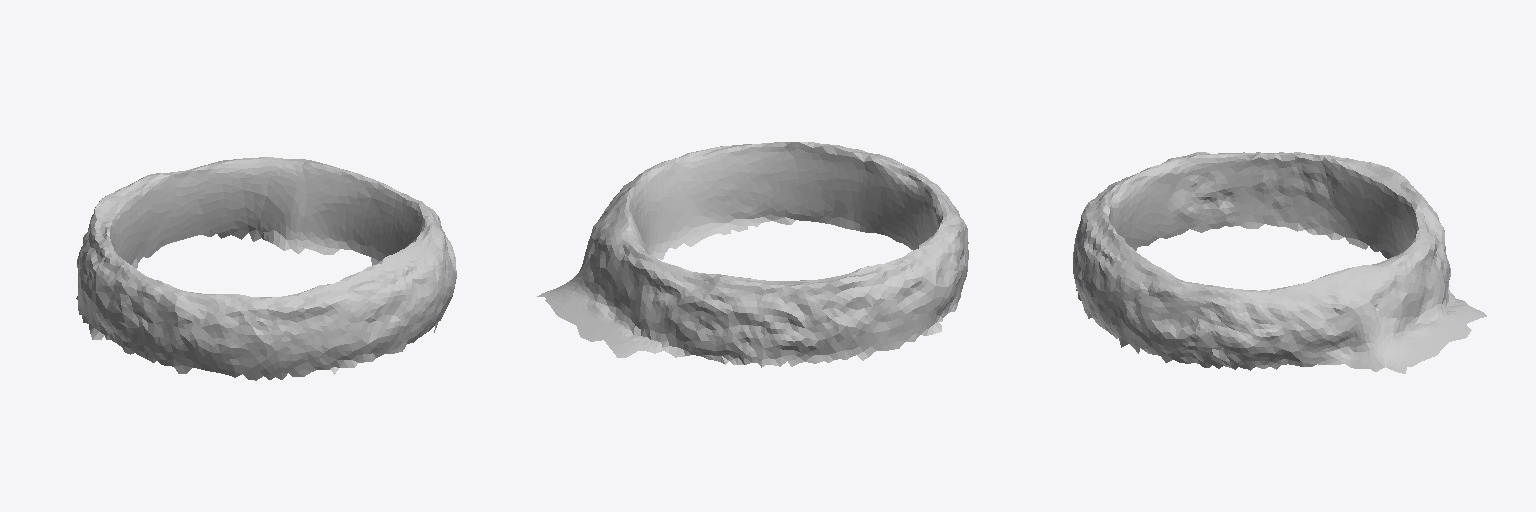
Rendered from ring.obj.
3 renders of one model, left to right at view 1: azimuth 30°, elevation 25°; view 2: azimuth 150°, elevation 25°; view 3: azimuth 270°, elevation 25°, orthographic.
Visible parts, largest first — view 1: Object; view 2: Object; view 3: Object.
Part boxes in pixels (x1,y1,x2,y2): Object: (76,157,456,380); Object: (537,142,968,367); Object: (1073,152,1486,373).
Bounding box in the file's own units: 0.0208 × 0.0052 × 0.0221.